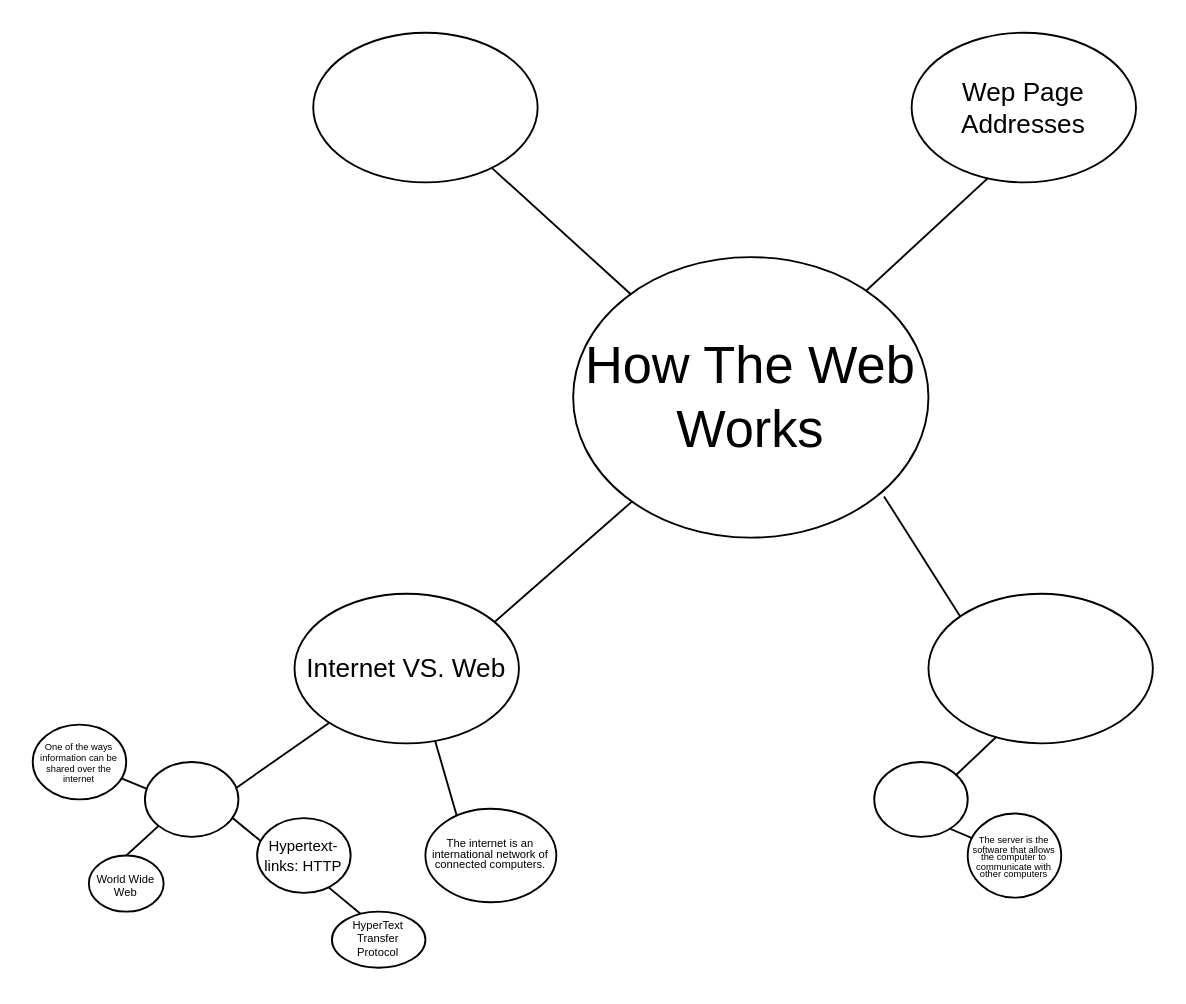
The diagram is 1186 pixels wide and 1004 high, and some of its shapes have lost their labels. The shapes that lost their labels are listed below. From the top down, each one's centre as x and y in pixels, then its label:
(x=424, y=106): A Word About Browsers
(x=1040, y=667): Serving Up Your Information
(x=190, y=798): Web: WWW
(x=920, y=798): Servers
